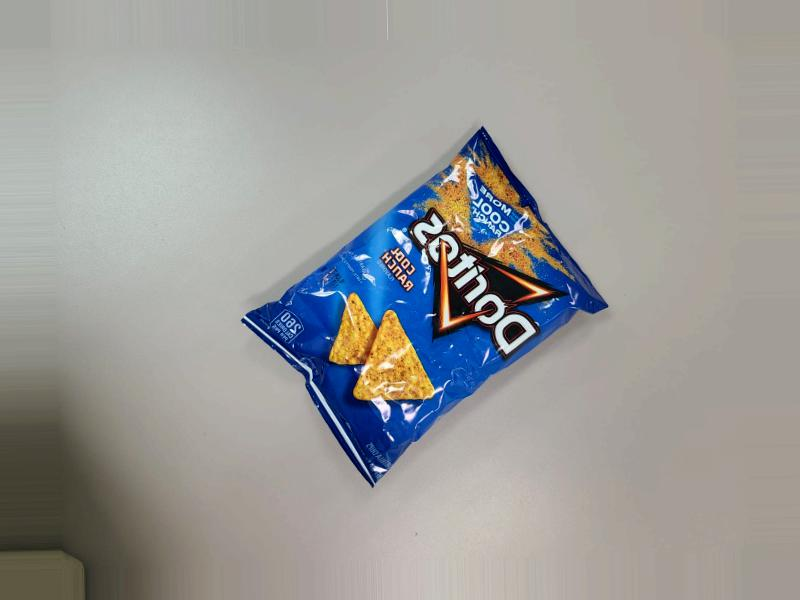doritos: (279, 101, 598, 499)
